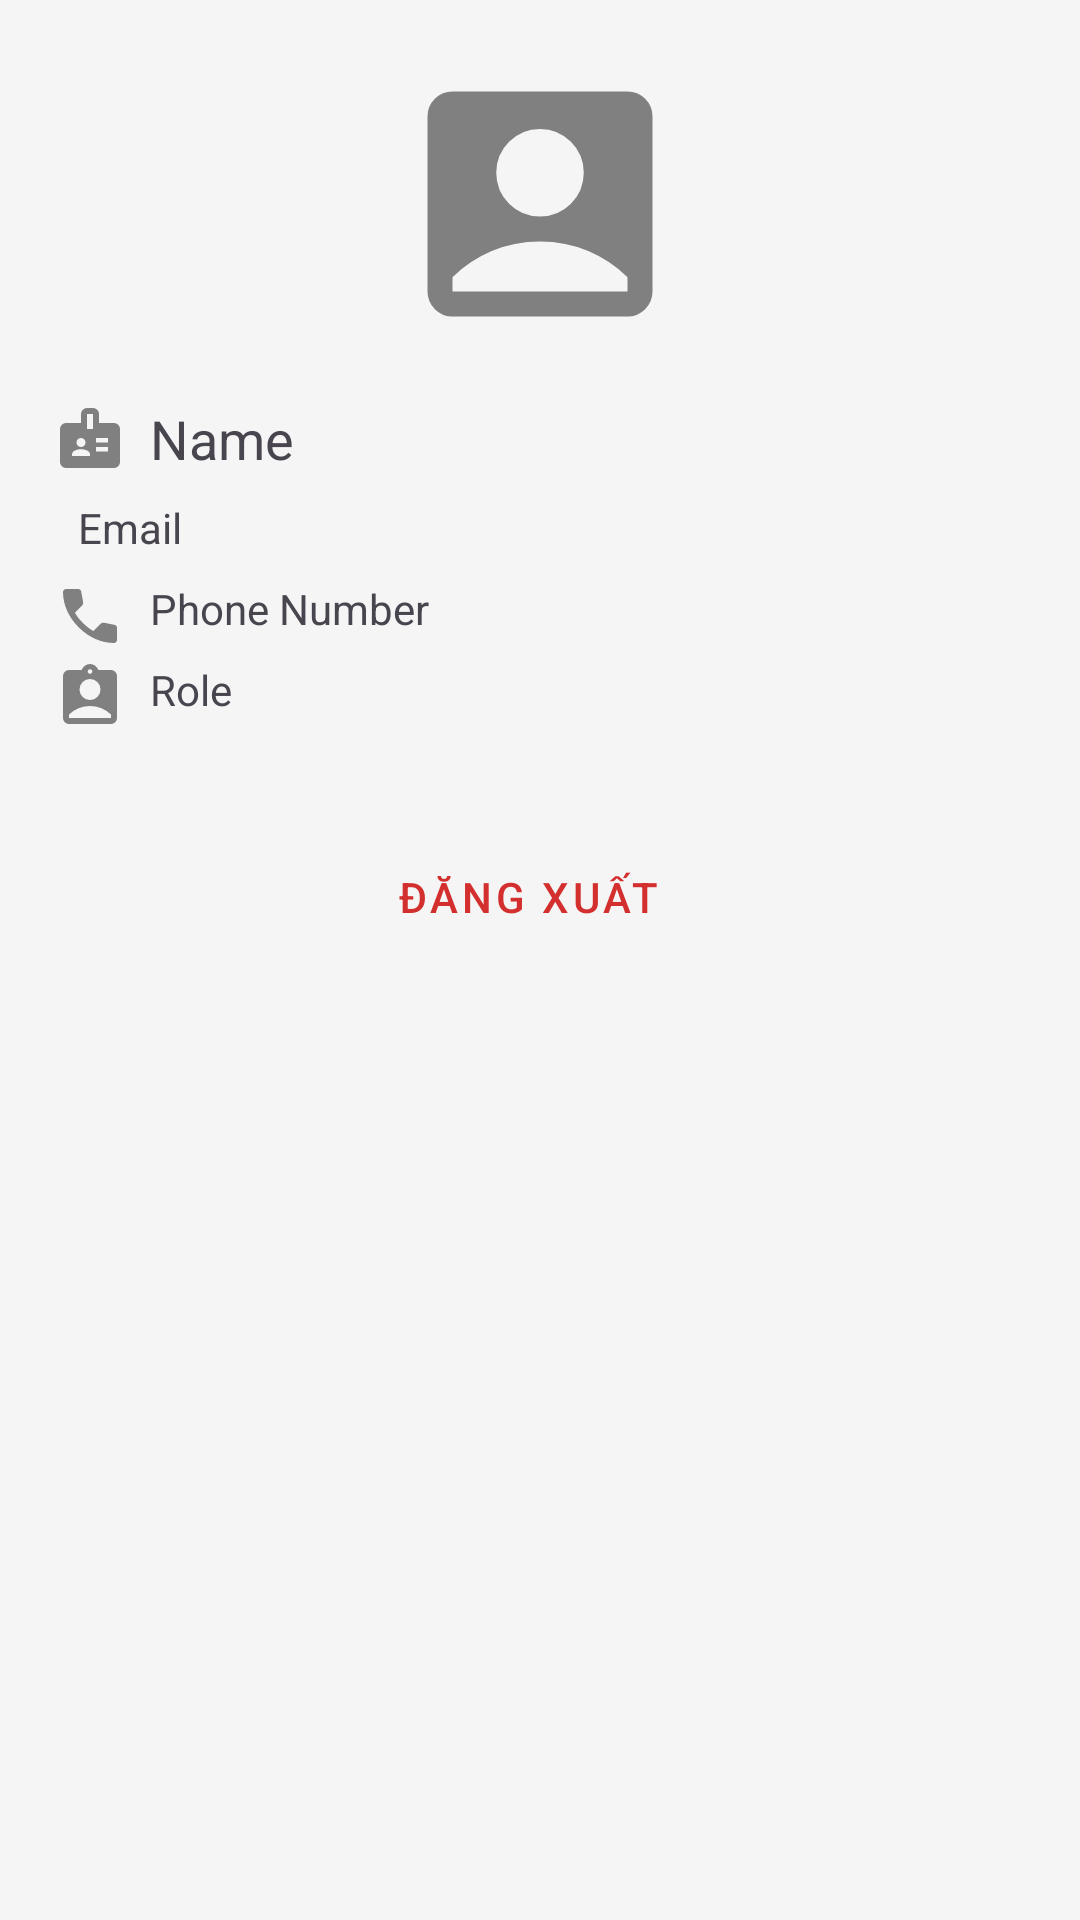

Named icons in this screenshot (1080 × 1920) and their bounding boxes, Rect(x1, y1, x2, y2):
assignment ind: Rect(63, 664, 117, 724)
Avatar: Rect(427, 91, 653, 317)
badge: Rect(60, 408, 120, 468)
call: Rect(63, 589, 117, 643)
